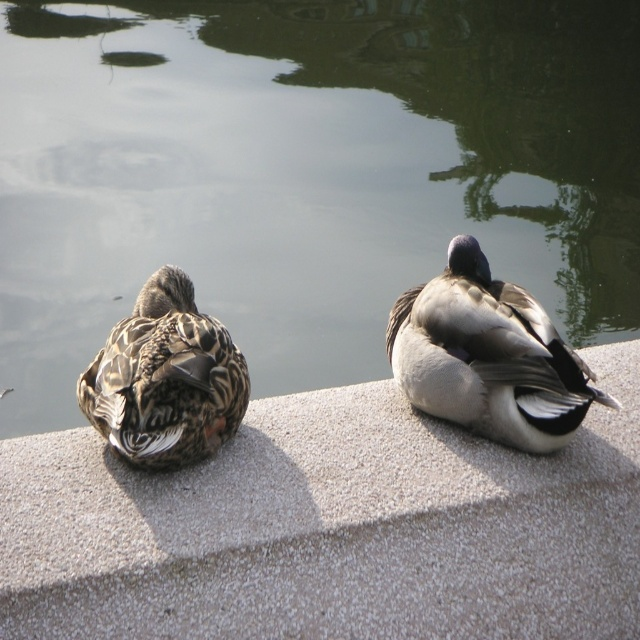Duck: (393, 233, 618, 453), (72, 261, 250, 489)
